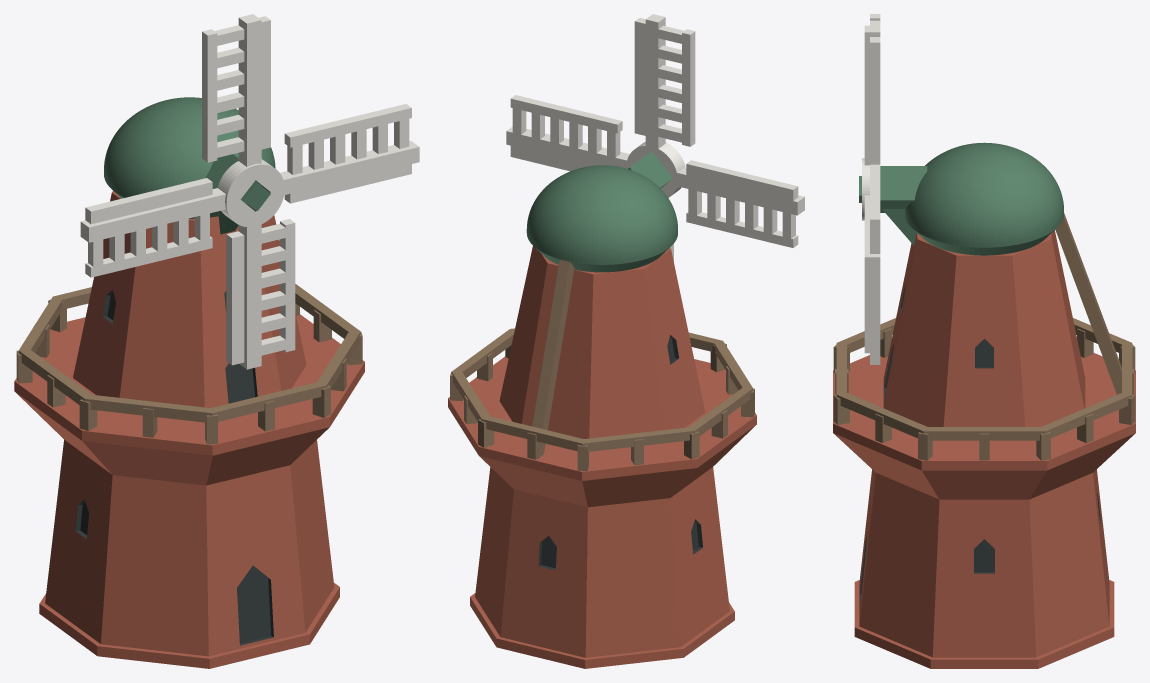
The model's file is windmill_preview.glb.
3 renders of one model, left to right at view 1: azimuth 30°, elevation 25°; view 2: azimuth 150°, elevation 25°; view 3: azimuth 270°, elevation 25°, orthographic. The views are drawn at different scales.
Visible parts, largest first — view 1: SM_MoulinHollandais_Corps, SM_MoulinHollandais_AilesMontees; view 2: SM_MoulinHollandais_Corps, SM_MoulinHollandais_AilesMontees; view 3: SM_MoulinHollandais_Corps, SM_MoulinHollandais_AilesMontees.
Part boxes in pixels (x1,y1,x2,y2): SM_MoulinHollandais_Corps: [14, 97, 364, 668]; SM_MoulinHollandais_AilesMontees: [80, 14, 419, 369]; SM_MoulinHollandais_Corps: [448, 151, 756, 668]; SM_MoulinHollandais_AilesMontees: [506, 14, 804, 261]; SM_MoulinHollandais_Corps: [833, 142, 1135, 668]; SM_MoulinHollandais_AilesMontees: [862, 14, 880, 364].
Size of the model in its own units: 0.068 by 0.124 by 0.0582.
